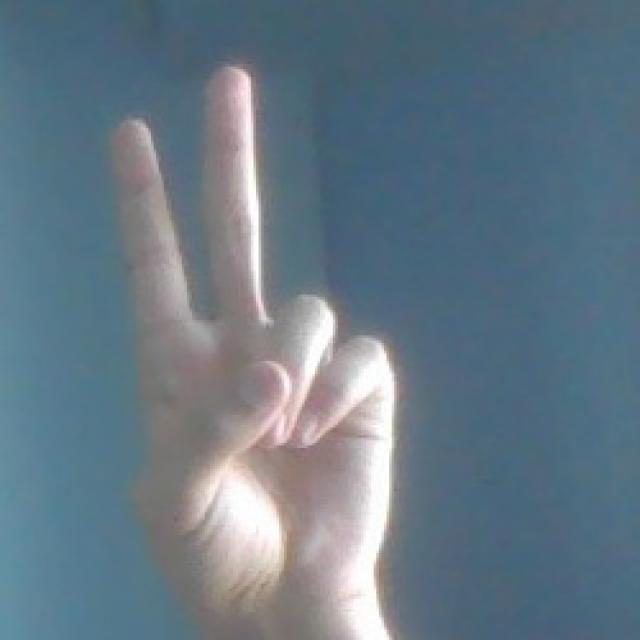Numeric-2: (98, 60, 390, 620)
